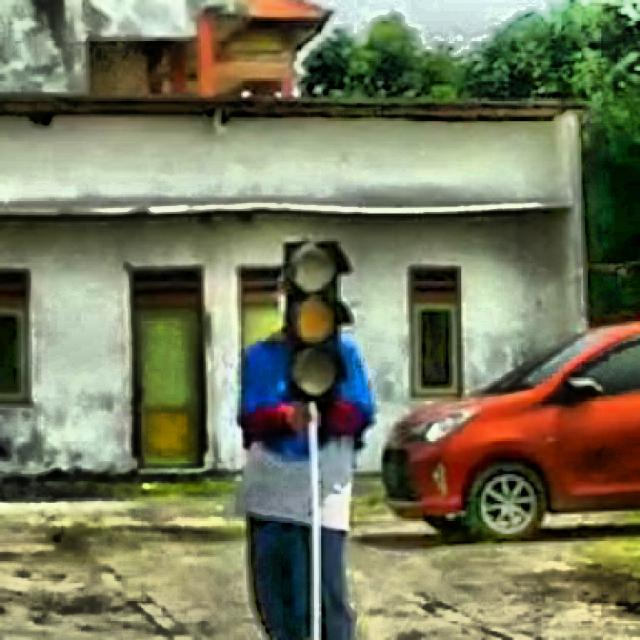yellow: (282, 238, 348, 404)
